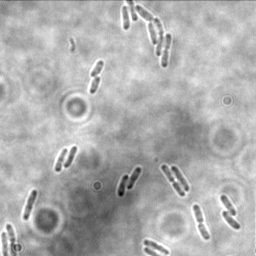Dividing: (159, 164, 186, 197), (191, 203, 211, 240), (142, 238, 170, 255), (5, 223, 18, 256)
Microcolony: (120, 1, 173, 69)
Rod: (170, 164, 192, 192), (22, 188, 39, 220), (219, 193, 238, 216), (221, 210, 241, 231), (126, 166, 143, 190), (53, 147, 68, 173), (64, 145, 79, 168), (117, 173, 130, 198), (89, 59, 105, 78), (88, 76, 102, 95), (0, 230, 10, 256)
